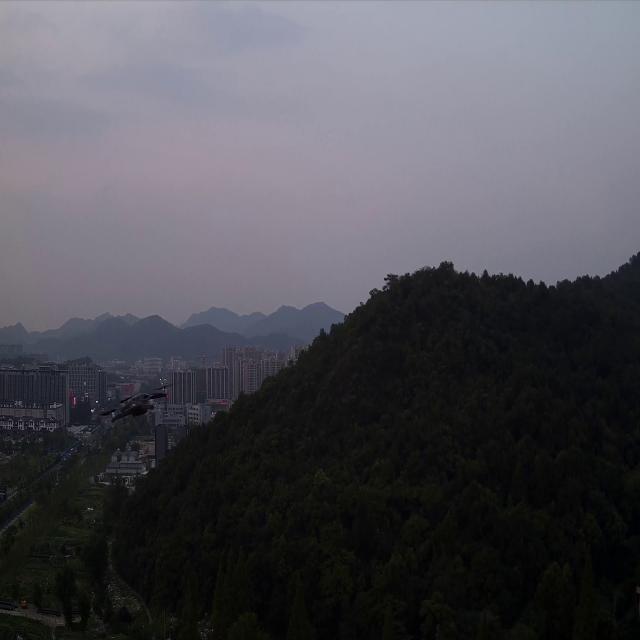drone: (96, 382, 174, 428)
